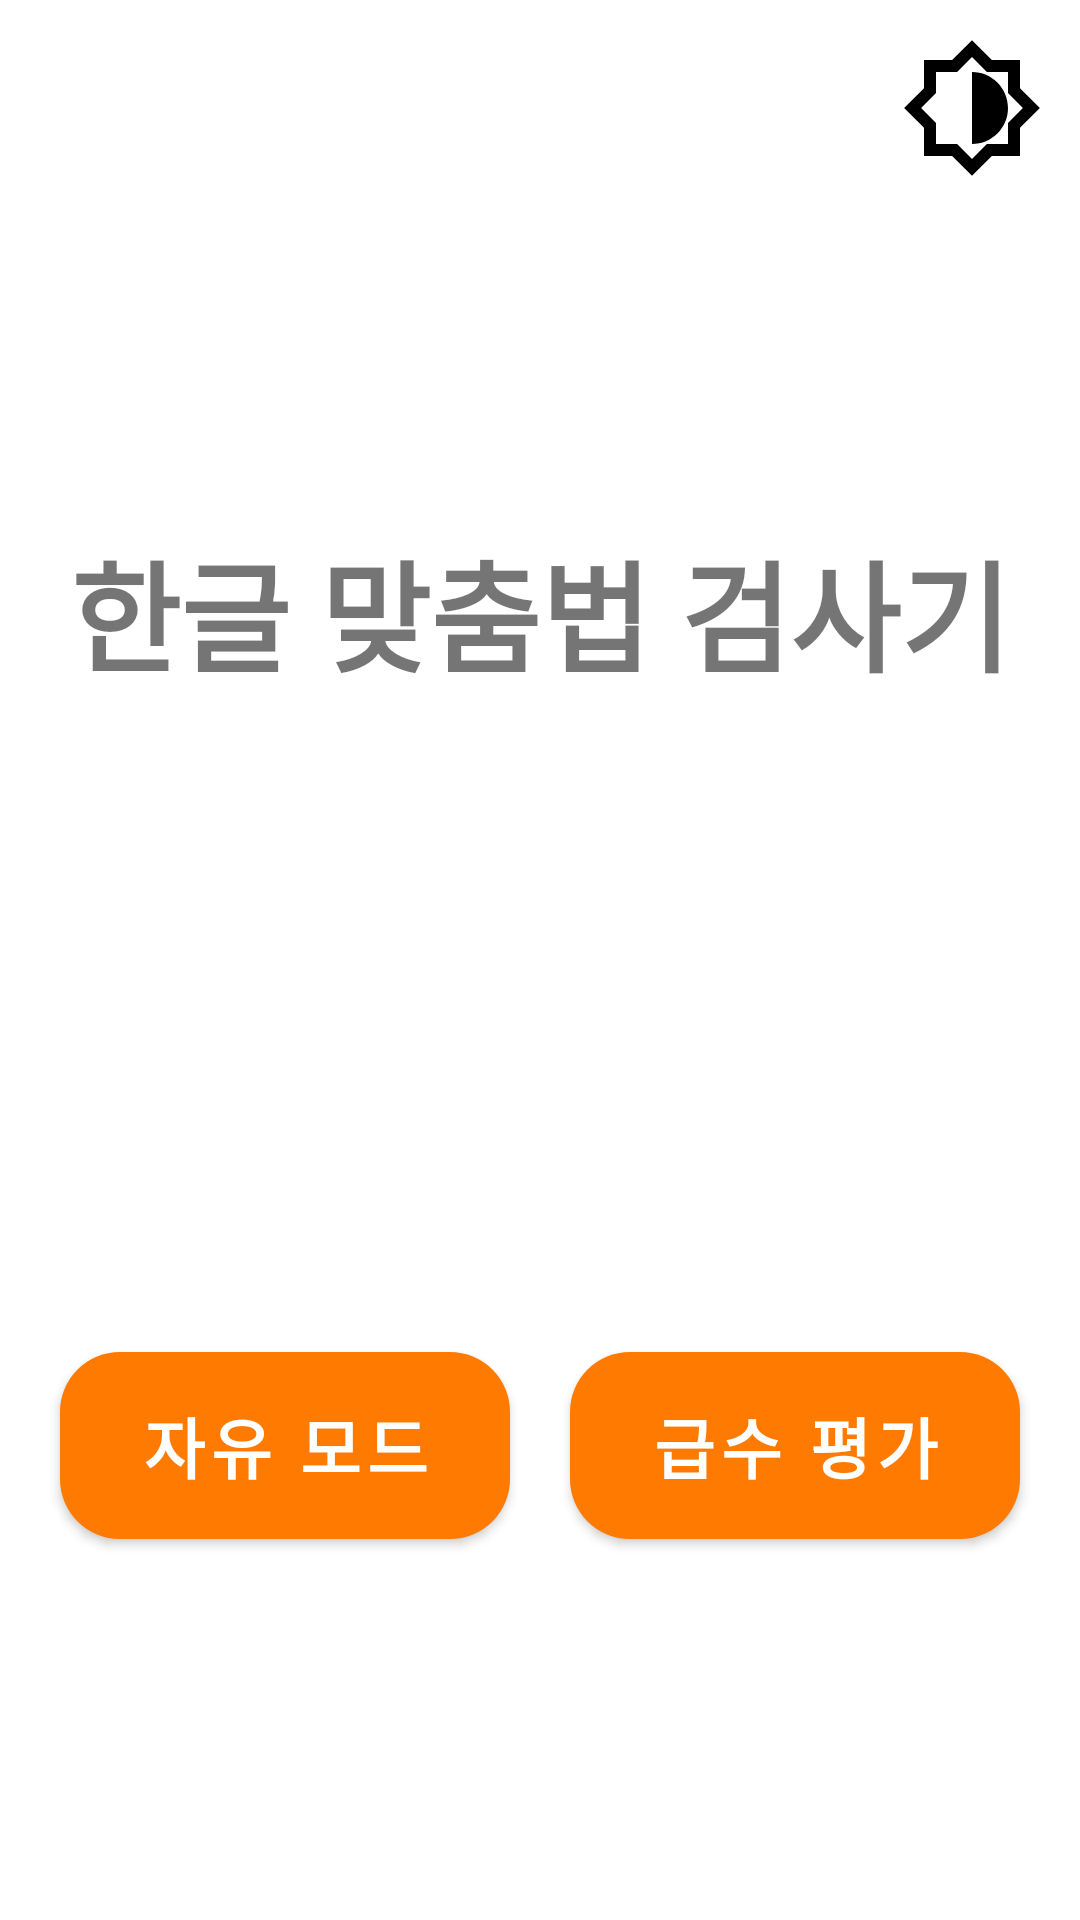

Screen size 1080px×1920px. Icon name, then its center in pixels as point (x, y):
brightness medium: point (972, 108)
